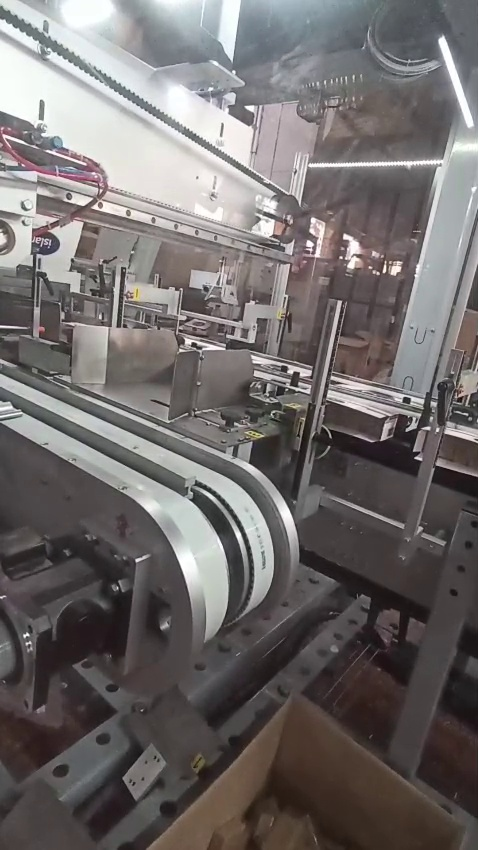savon: (147, 703, 462, 850), (188, 752, 214, 780), (289, 416, 310, 434), (245, 429, 272, 442), (460, 325, 472, 351)
